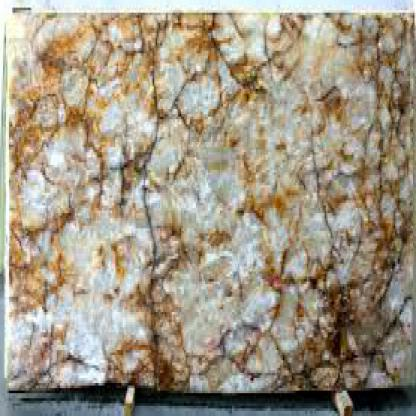Metamorphic_Quartize: (0, 0, 415, 409)
